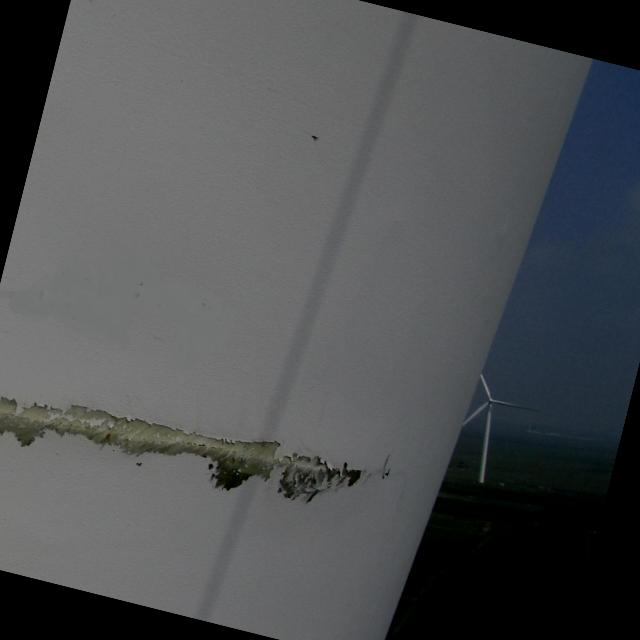surface_peeling: (0, 360, 374, 537)
